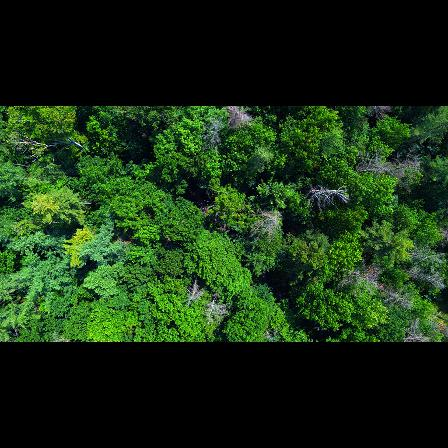Dead: (14, 131, 84, 166), (326, 259, 391, 290), (353, 152, 419, 182), (300, 182, 351, 211), (396, 266, 445, 290), (251, 208, 285, 241), (205, 291, 235, 328), (395, 320, 437, 340), (402, 248, 448, 266), (178, 279, 202, 312), (226, 107, 256, 129), (203, 124, 225, 148)
